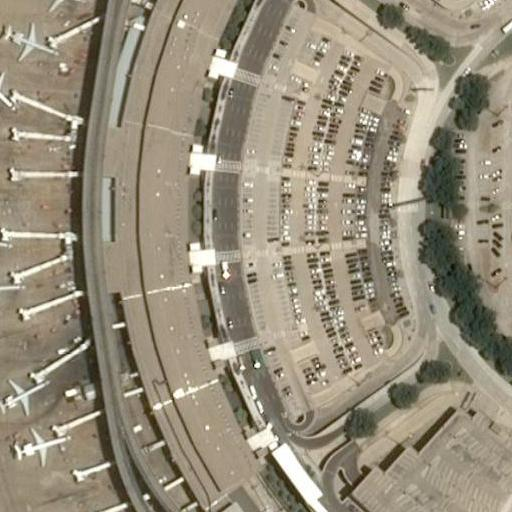Aircraft: (0, 420, 72, 474), (0, 16, 63, 64), (0, 369, 48, 419), (0, 263, 25, 313), (0, 58, 21, 117), (0, 211, 14, 262), (28, 0, 83, 12)
